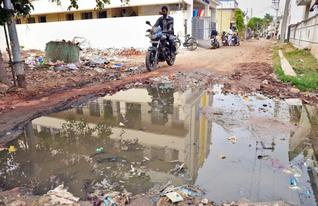building: (1, 1, 222, 49)
person: (157, 3, 180, 52)
sky: (240, 1, 274, 16)
trash: (26, 36, 120, 73)
water: (120, 80, 318, 203), (3, 92, 122, 196)
